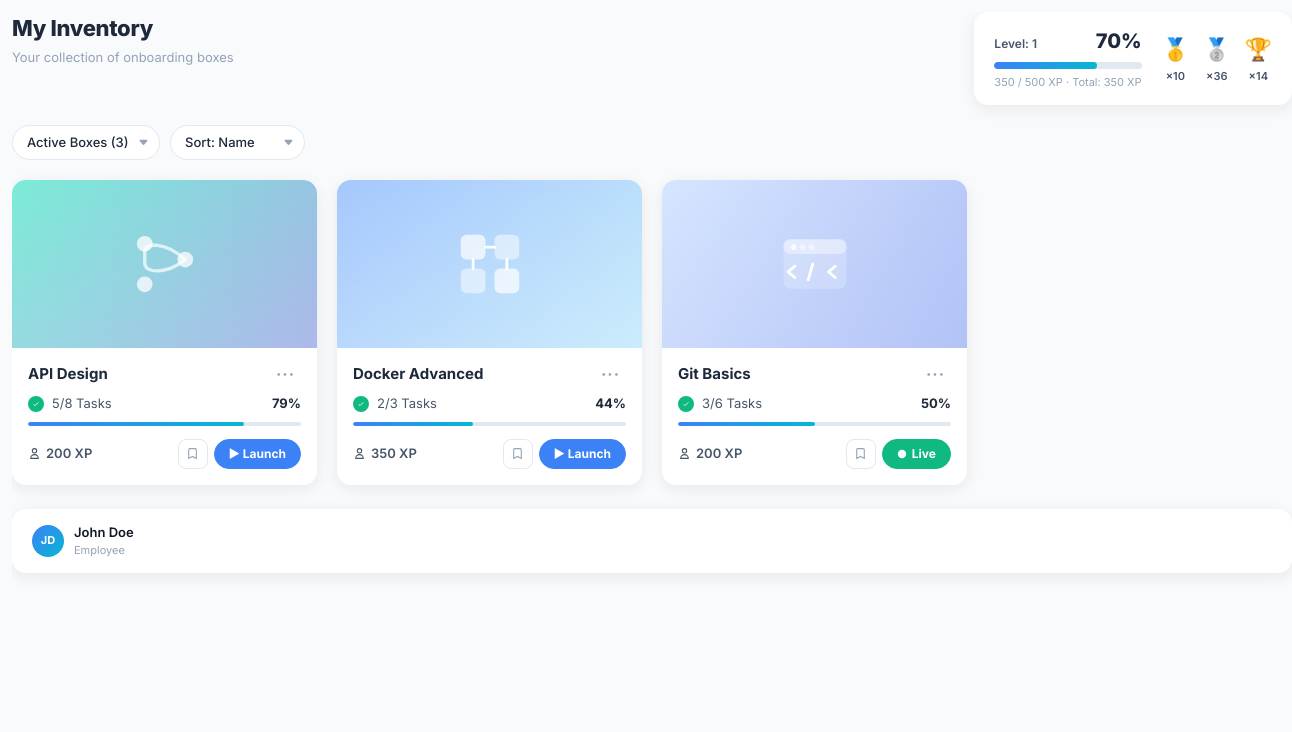
Test case: Dashboard › filtra boxes por dificultad ADVANCED
Expected: the heading "Docker Advanced" is shown, left=353, top=364, right=483, bottom=384
Select "Advanced" in the 1st dropdown at (86, 142), box left=12, top=124, right=160, bottom=160
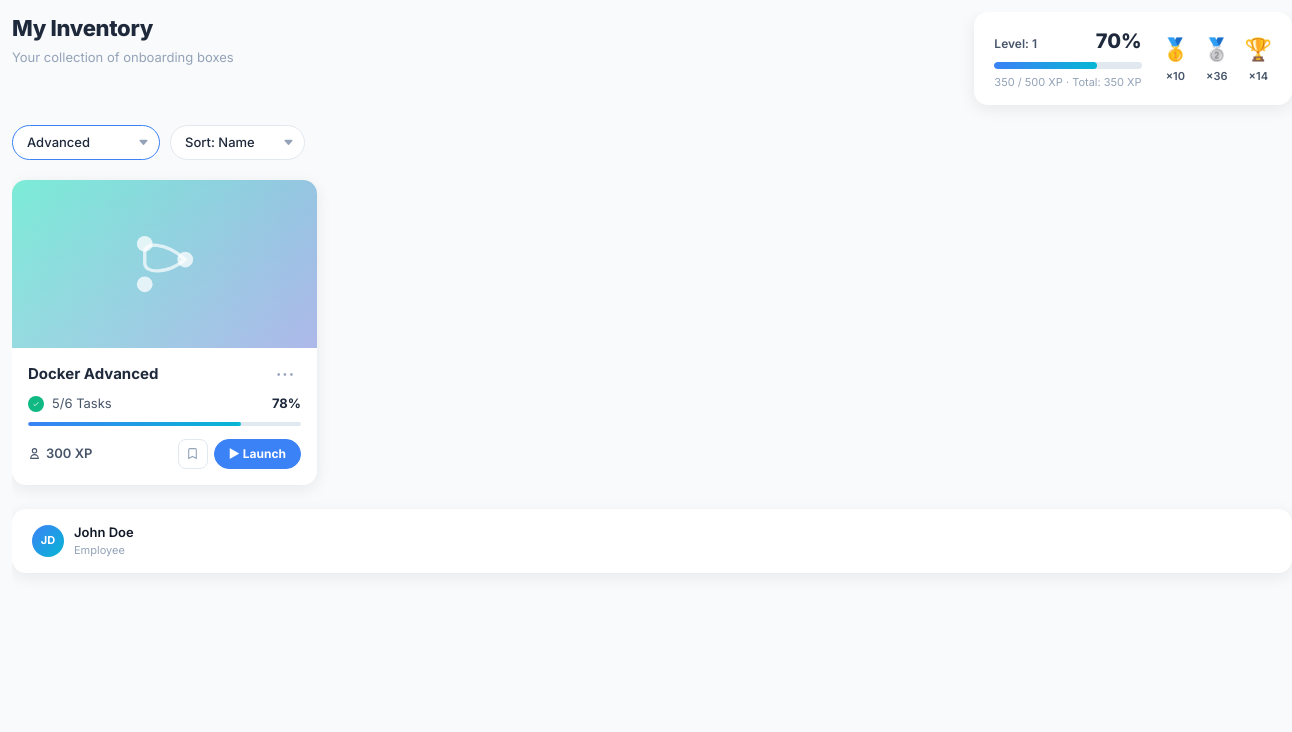
Expected: the heading "Docker Advanced" is shown, left=28, top=364, right=158, bottom=384
Now the heading "Git Basics" is gone
